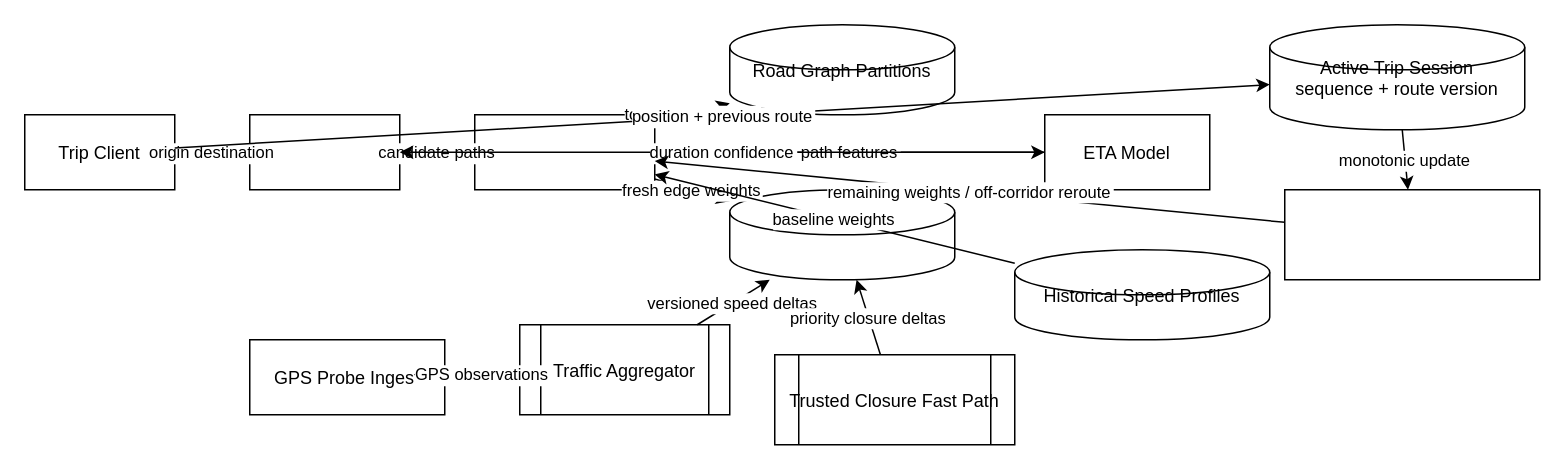
Some shapes in this 1565 by 470 pixel diagram are drawn without their labels. Here are the shapes that lost their labels. From the top down, the centre of each, then its label:
pixel 324 151: Route API
pixel 564 151: Routing Workers
pixel 841 234: Live Traffic Overlay
pixel 1411 234: Corridor Fast ETA / Reroute
